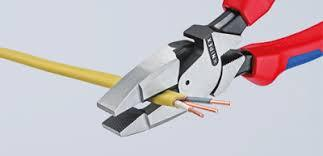pliers: (95, 0, 322, 137)
